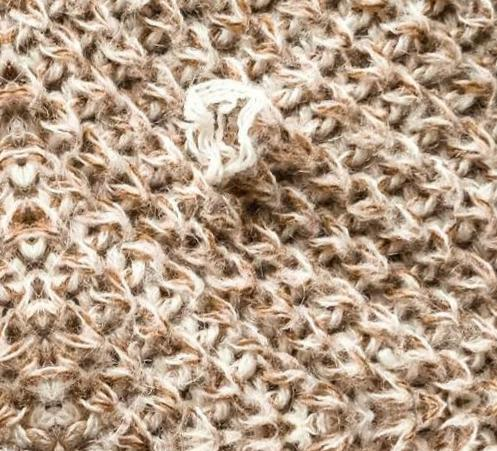snag: (180, 66, 289, 202)
